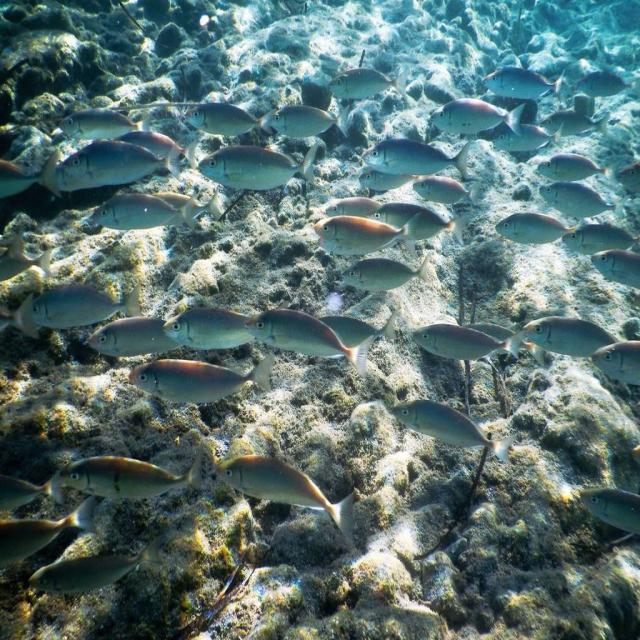Sokar Baligi: (209, 444, 362, 561), (380, 387, 499, 475), (194, 138, 320, 203)
